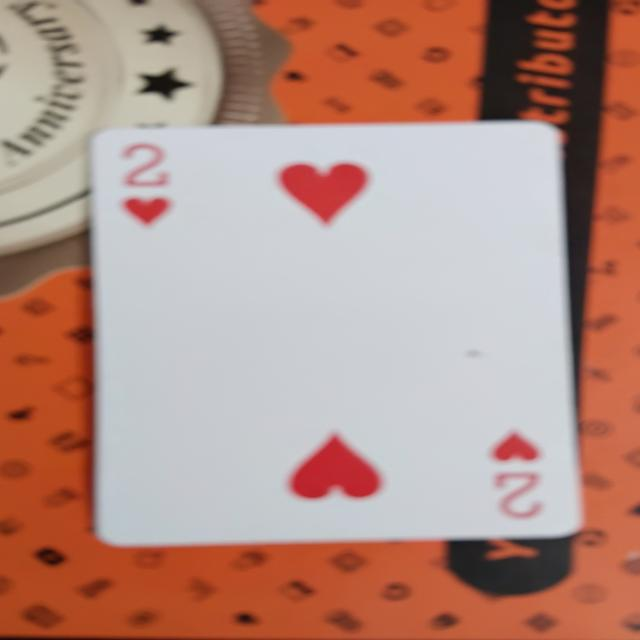2H: (92, 130, 585, 544)
